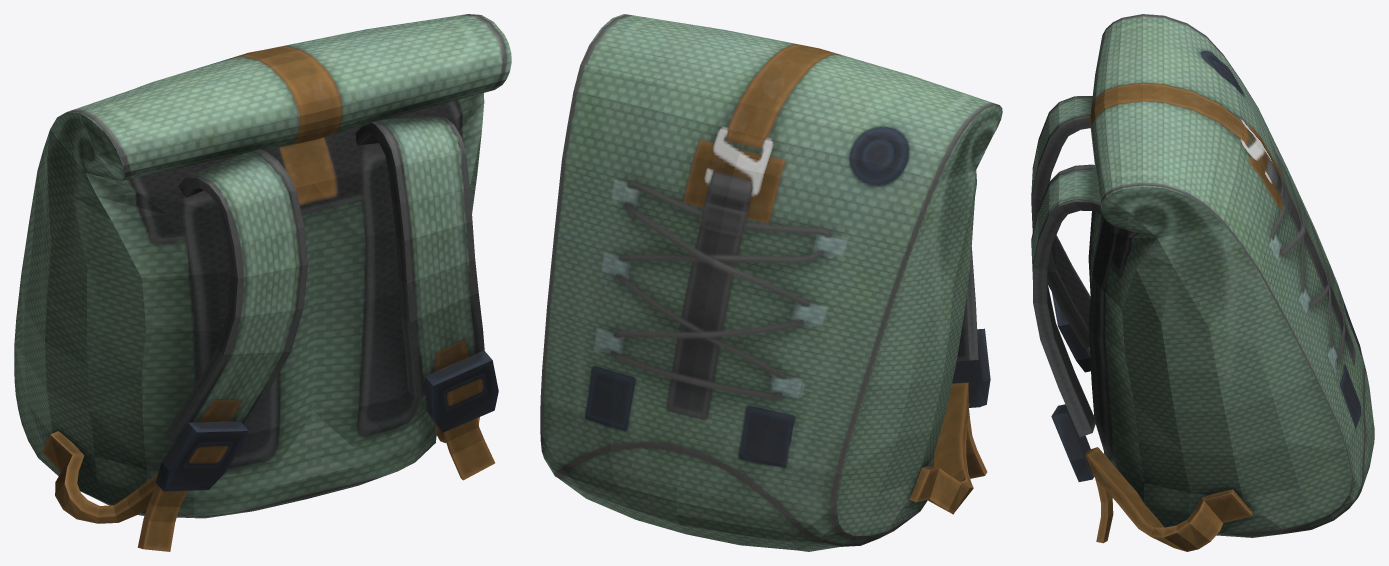
The model's file is P_Backpack_001_S1_M01.obj.
The picture shows the model from 3 angles, left to right: view 1: azimuth 30°, elevation 25°; view 2: azimuth 150°, elevation 25°; view 3: azimuth 270°, elevation 25°; orthographic projection. The views are drawn at different scales.
Bounding box in the file's own units: 0.4935 × 0.5077 × 0.4085.
Materials: 1 (1 with a texture image).
